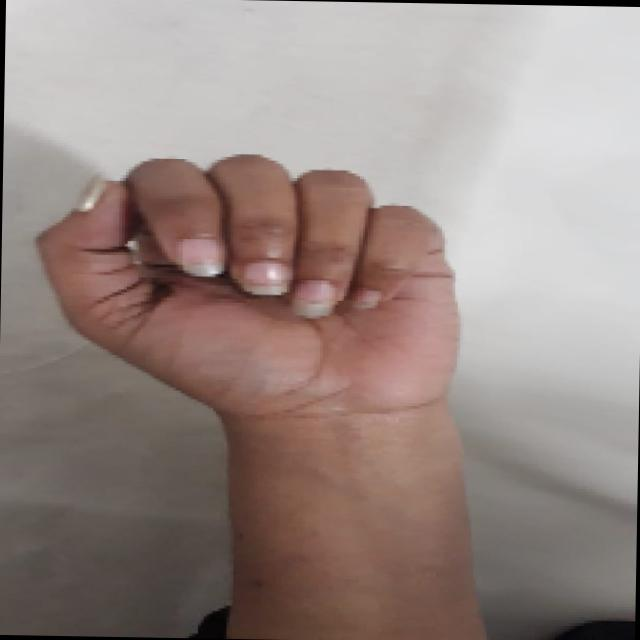Nail: (177, 235, 223, 276), (241, 259, 292, 294), (292, 279, 337, 316), (78, 174, 106, 211), (353, 287, 382, 307)
